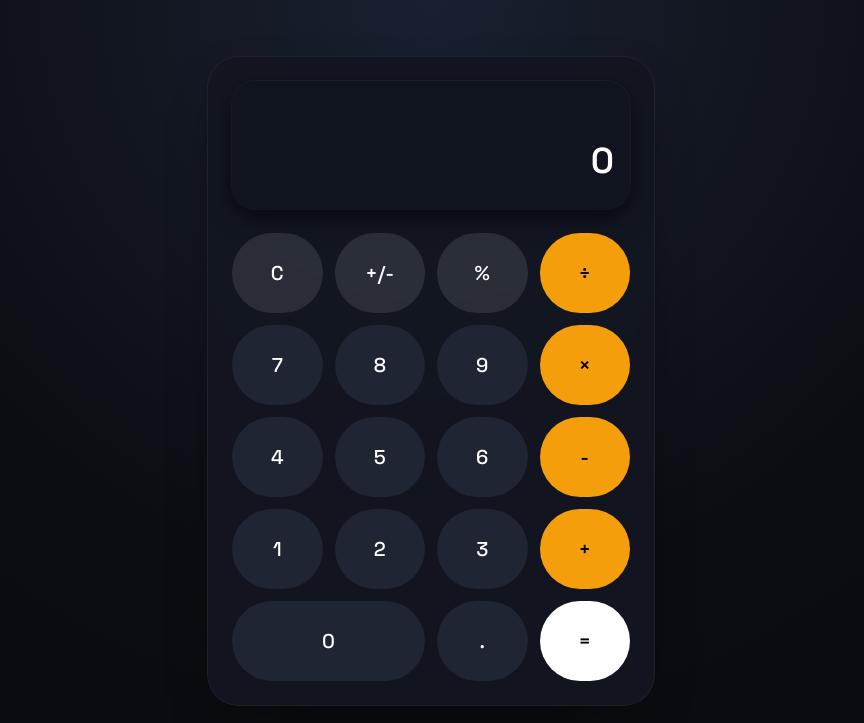
Scenario: Calculator UI › toggles sign and backspaces
Click the button "9": coordinates (482, 365) [437,325,528,405]
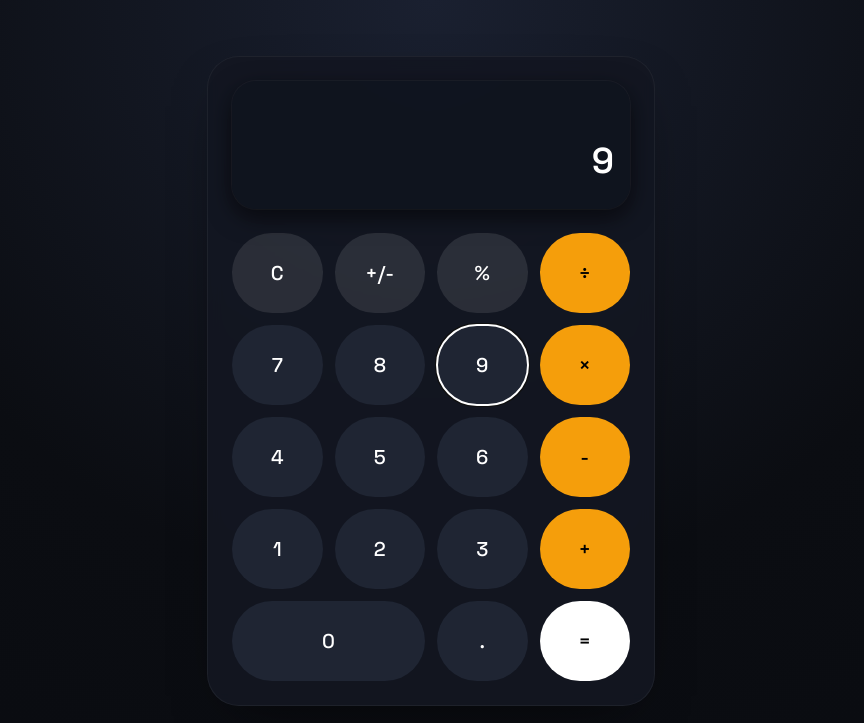
Click the button "+/-": coordinates (380, 273) [334,233,425,313]
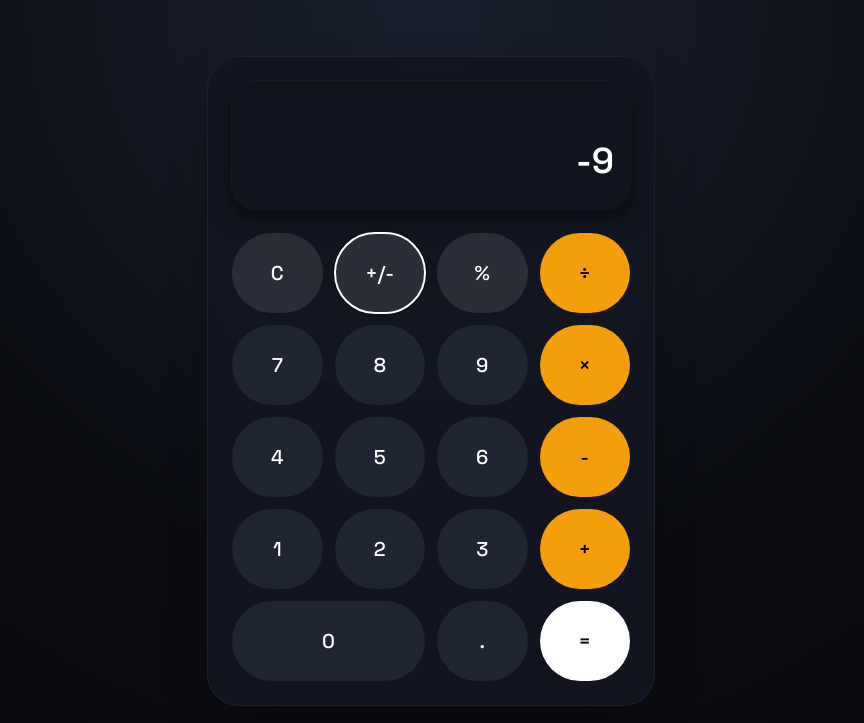
Now the text with test id "display" reads "-9", box [576,138,614,184]
Click the button "1": coordinates (277, 549) [232,509,322,589]
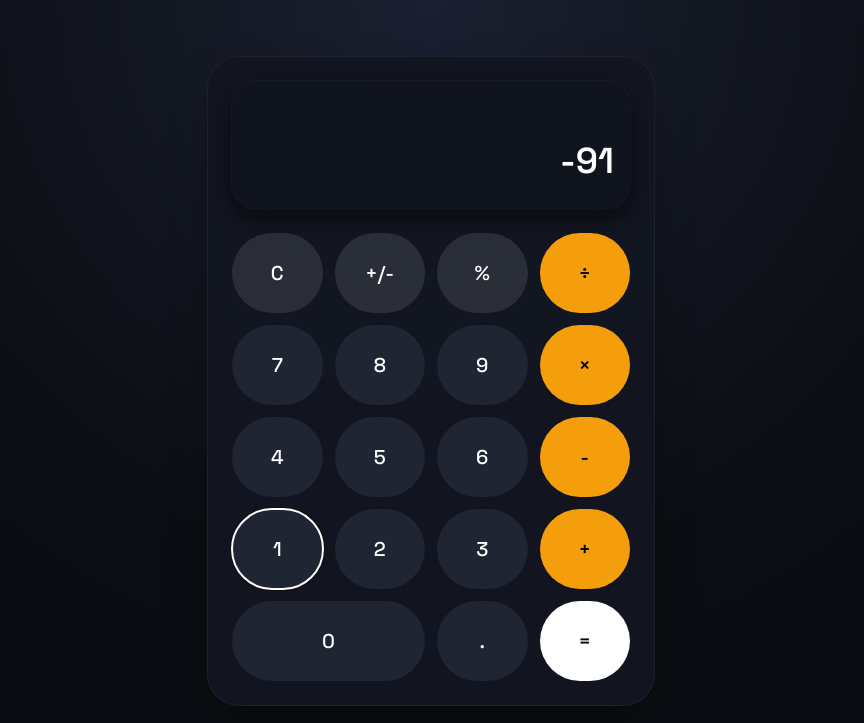
Click the button "2": coordinates (380, 549) [334,509,425,589]
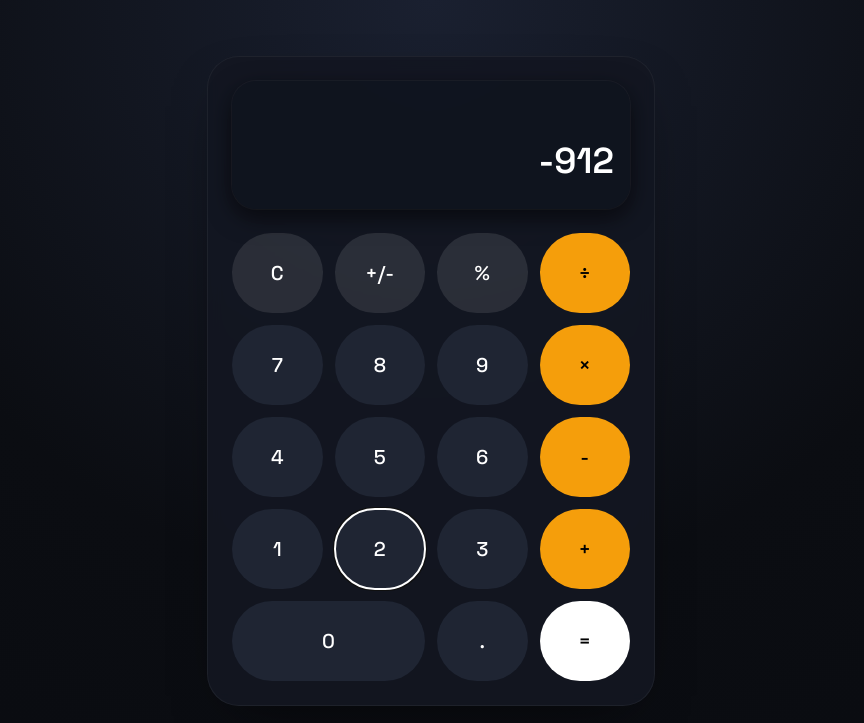
Click the button "3": coordinates (482, 549) [437,509,528,589]
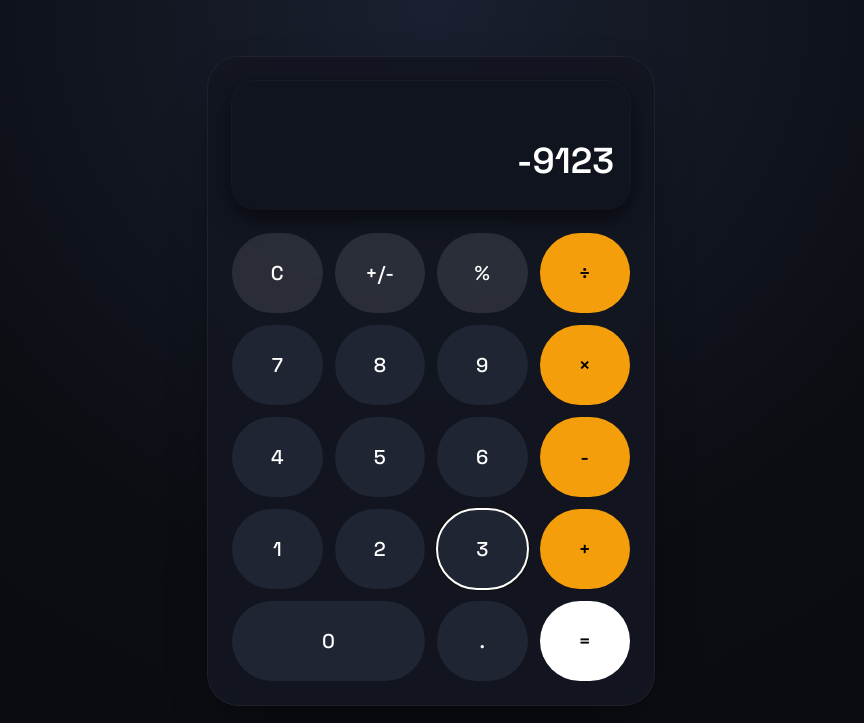
Press Backspace
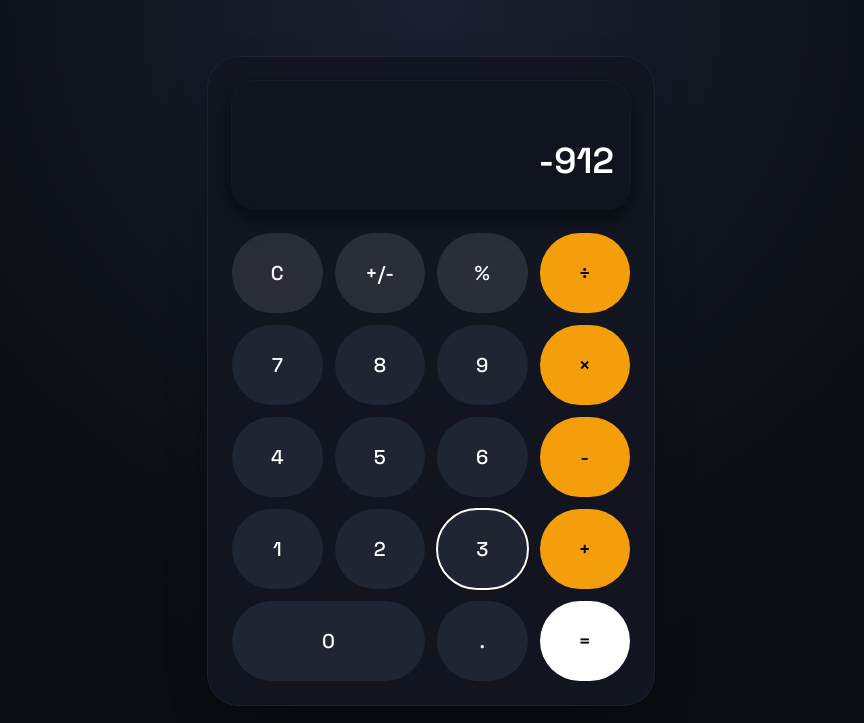
Now the text with test id "display" reads "-912", box [539,138,614,184]
